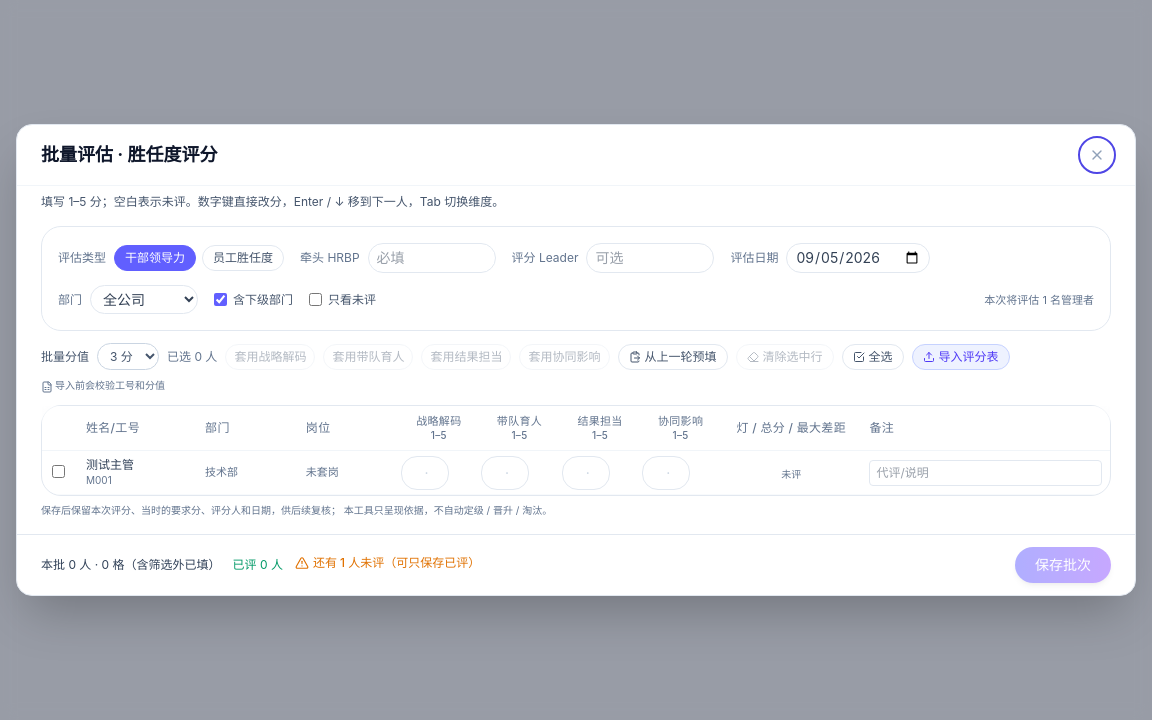
it: 体验断点回归 › 空范围不会声称全员已评
Select "市场部" in the dropdown labelled "部门" at (144, 300), box [90,286,198,314]
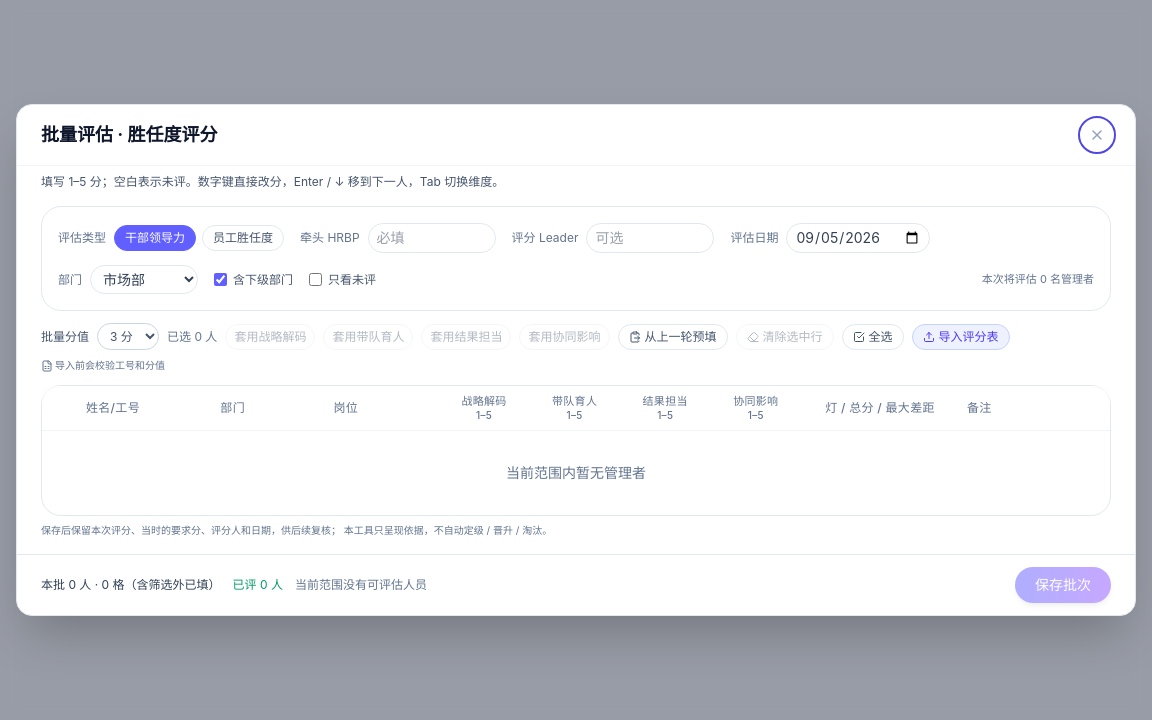
expect the text "全员已评" is not shown: met
expect the text "当前范围没有可评估人员" is shown: met, box [295,577,427,592]
